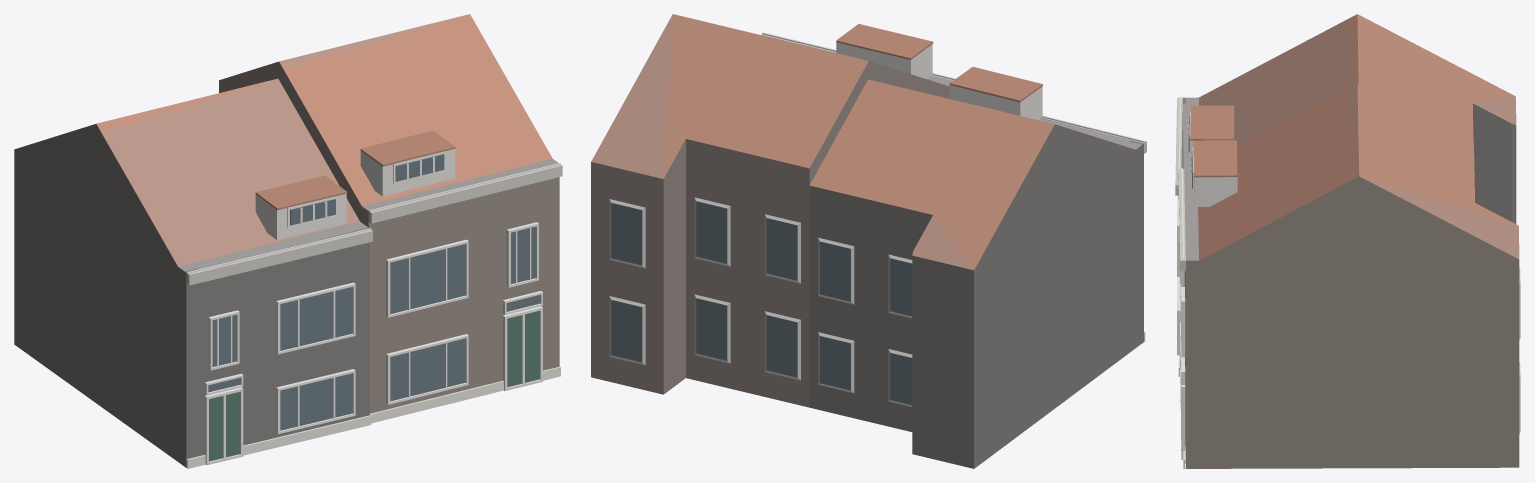
The model's file is chunk-face-kalkoen-18-26-r1.glb.
The picture shows the model from 3 angles, left to right: view 1: azimuth 30°, elevation 25°; view 2: azimuth 150°, elevation 25°; view 3: azimuth 270°, elevation 25°; orthographic projection. The views are drawn at different scales.
Visible parts, largest first — view 1: face-kalkoen-18-26-r1; view 2: face-kalkoen-18-26-r1; view 3: face-kalkoen-18-26-r1.
Part boxes in pixels (x1,y1,x2,y2): face-kalkoen-18-26-r1: (14,14,562,468); face-kalkoen-18-26-r1: (591,14,1146,468); face-kalkoen-18-26-r1: (1175,14,1520,468).
Size of the model in its own units: 13.04 by 9.82 by 10.52.
